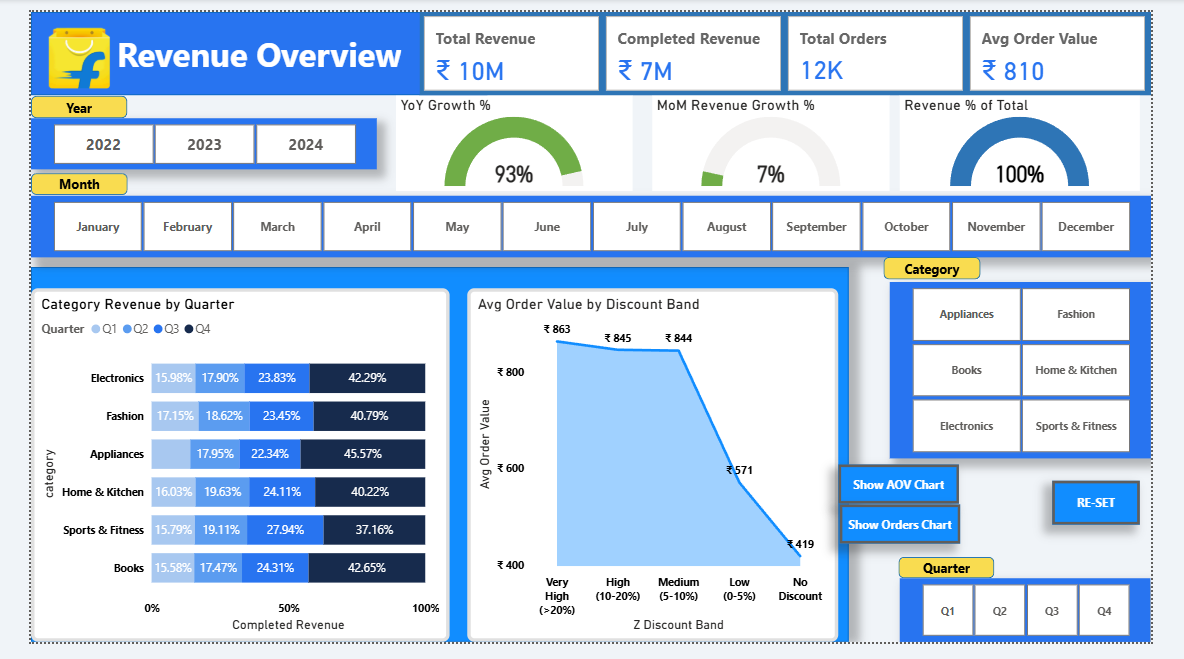

The page's visual inventory and layout, read from the dashboard file:
{"tool":"powerbi","page":{"name":"Revenue Overview","canvas":[1280,720],"ordinal":0},"visuals":[{"type":"shape","box":[0,0,521.2,95],"z":0},{"type":"shape","box":[0,291.9,934.4,428.3],"z":1000},{"type":"cardVisual","fields":{"Data":["revenue_measures.Total Revenue","revenue_measures.Completed Revenue","Order_measures.Total Orders","revenue_measures.Avg Order Value"]},"box":[443.8,0,836.2,95],"z":2000},{"type":"slicer","fields":{"Values":["dim_products.category"]},"box":[981.4,308.6,298.6,201.4],"z":3000},{"type":"slicer","fields":{"Values":["Date_Table.Year"]},"box":[0,121.1,395,58.7],"z":4000},{"type":"slicer","fields":{"Values":["Date_Table.Month Name"]},"box":[0,210,1280,70],"z":5000},{"type":"slicer","fields":{"Values":["Date_Table.Quarter"]},"box":[993.2,647.3,286.5,73],"z":6000},{"type":"areaChart","title":"Avg Order Value by Discount Band","fields":{"Category":["fact_orders.Z Discount Band"],"Y":["revenue_measures.Avg Order Value"]},"box":[498.6,315.7,424.3,404.3],"z":7000},{"type":"hundredPercentStackedBarChart","title":"Category Revenue by Quarter","fields":{"Category":["dim_products.category"],"Y":["revenue_measures.Completed Revenue"],"Series":["Date_Table.Quarter"]},"box":[0,315.7,478.6,404.3],"z":8000},{"type":"actionButton","box":[923,517.6,137.8,44.6],"z":10000},{"type":"actionButton","box":[924.3,562.2,137.8,44.6],"z":11000},{"type":"image","box":[0,0,110.5,105.9],"z":12000},{"type":"gauge","fields":{"Y":["YoY_measures.YoY Growth %"]},"box":[417.1,95.7,270,108.6],"z":13000},{"type":"gauge","fields":{"Y":["revenue_measures.MoM Revenue Growth %"]},"box":[710,95.7,271.4,108.6],"z":14000},{"type":"actionButton","box":[1167.6,535.1,100,50],"z":15000},{"type":"shape","box":[0,95.4,110.1,25.7],"z":16000},{"type":"shape","box":[974.3,279.7,110.8,25.7],"z":17000},{"type":"shape","box":[0,184.8,110.5,24.8],"z":18000},{"type":"shape","box":[991.9,623,109.5,24.3],"z":19000},{"type":"gauge","fields":{"Y":["revenue_measures.Revenue % of Total"]},"box":[992.9,95.7,274.3,108.6],"z":20000}]}

Visuals, with their boxes in screenshot pixels (x1, y1, x2, y2), scaled from the page's 1280x720 canvas onto the 1184x659 screenshot:
shape: rect(0, 0, 482, 87)
shape: rect(0, 267, 864, 658)
cardVisual - revenue_measures.Total Revenue x revenue_measures.Completed Revenue: rect(411, 0, 1183, 87)
slicer - dim_products.category: rect(908, 282, 1183, 467)
slicer - Date_Table.Year: rect(0, 111, 365, 165)
slicer - Date_Table.Month Name: rect(0, 192, 1183, 256)
slicer - Date_Table.Quarter: rect(919, 592, 1183, 658)
"Avg Order Value by Discount Band" areaChart: rect(461, 289, 854, 658)
"Category Revenue by Quarter" hundredPercentStackedBarChart: rect(0, 289, 443, 658)
actionButton: rect(854, 474, 981, 515)
actionButton: rect(855, 515, 982, 555)
image: rect(0, 0, 102, 97)
gauge - YoY_measures.YoY Growth %: rect(386, 88, 636, 187)
gauge - revenue_measures.MoM Revenue Growth %: rect(657, 88, 908, 187)
actionButton: rect(1080, 490, 1173, 536)
shape: rect(0, 87, 102, 111)
shape: rect(901, 256, 1004, 280)
shape: rect(0, 169, 102, 192)
shape: rect(918, 570, 1019, 592)
gauge - revenue_measures.Revenue % of Total: rect(918, 88, 1172, 187)
